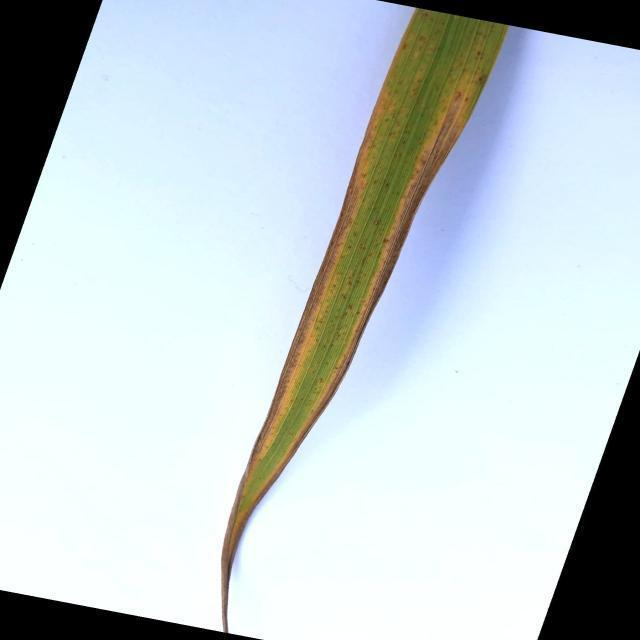Rice Tungro: (214, 0, 515, 601)
